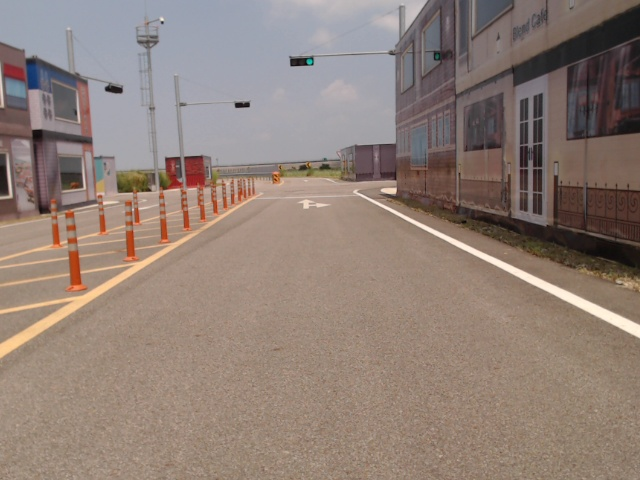green_3: (290, 57, 314, 66)
